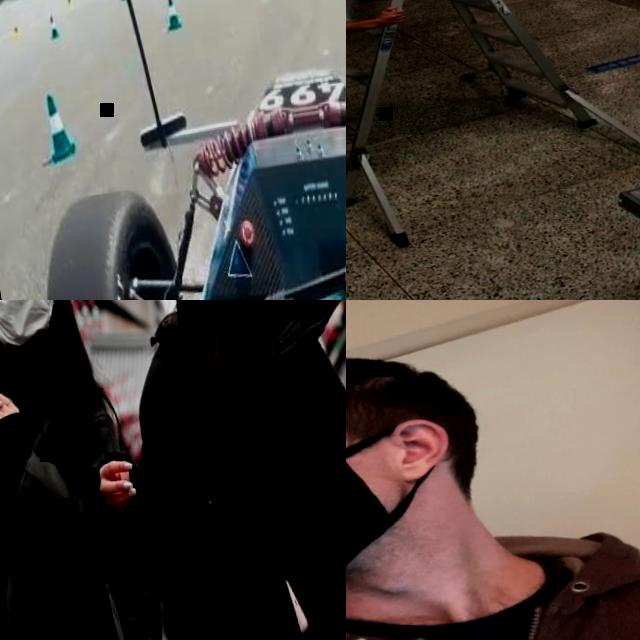mask: (346, 429, 440, 616), (0, 300, 63, 353)
no_helmet: (346, 335, 454, 444)
no_vest: (125, 306, 346, 640), (0, 350, 149, 640), (346, 562, 640, 640)
person: (39, 300, 346, 640), (346, 300, 640, 640), (0, 300, 173, 640), (346, 0, 430, 214)
safety_cone: (38, 93, 73, 162), (163, 0, 181, 29), (46, 13, 60, 39), (14, 24, 24, 46), (64, 0, 75, 16)
vehicle: (0, 0, 346, 300)
